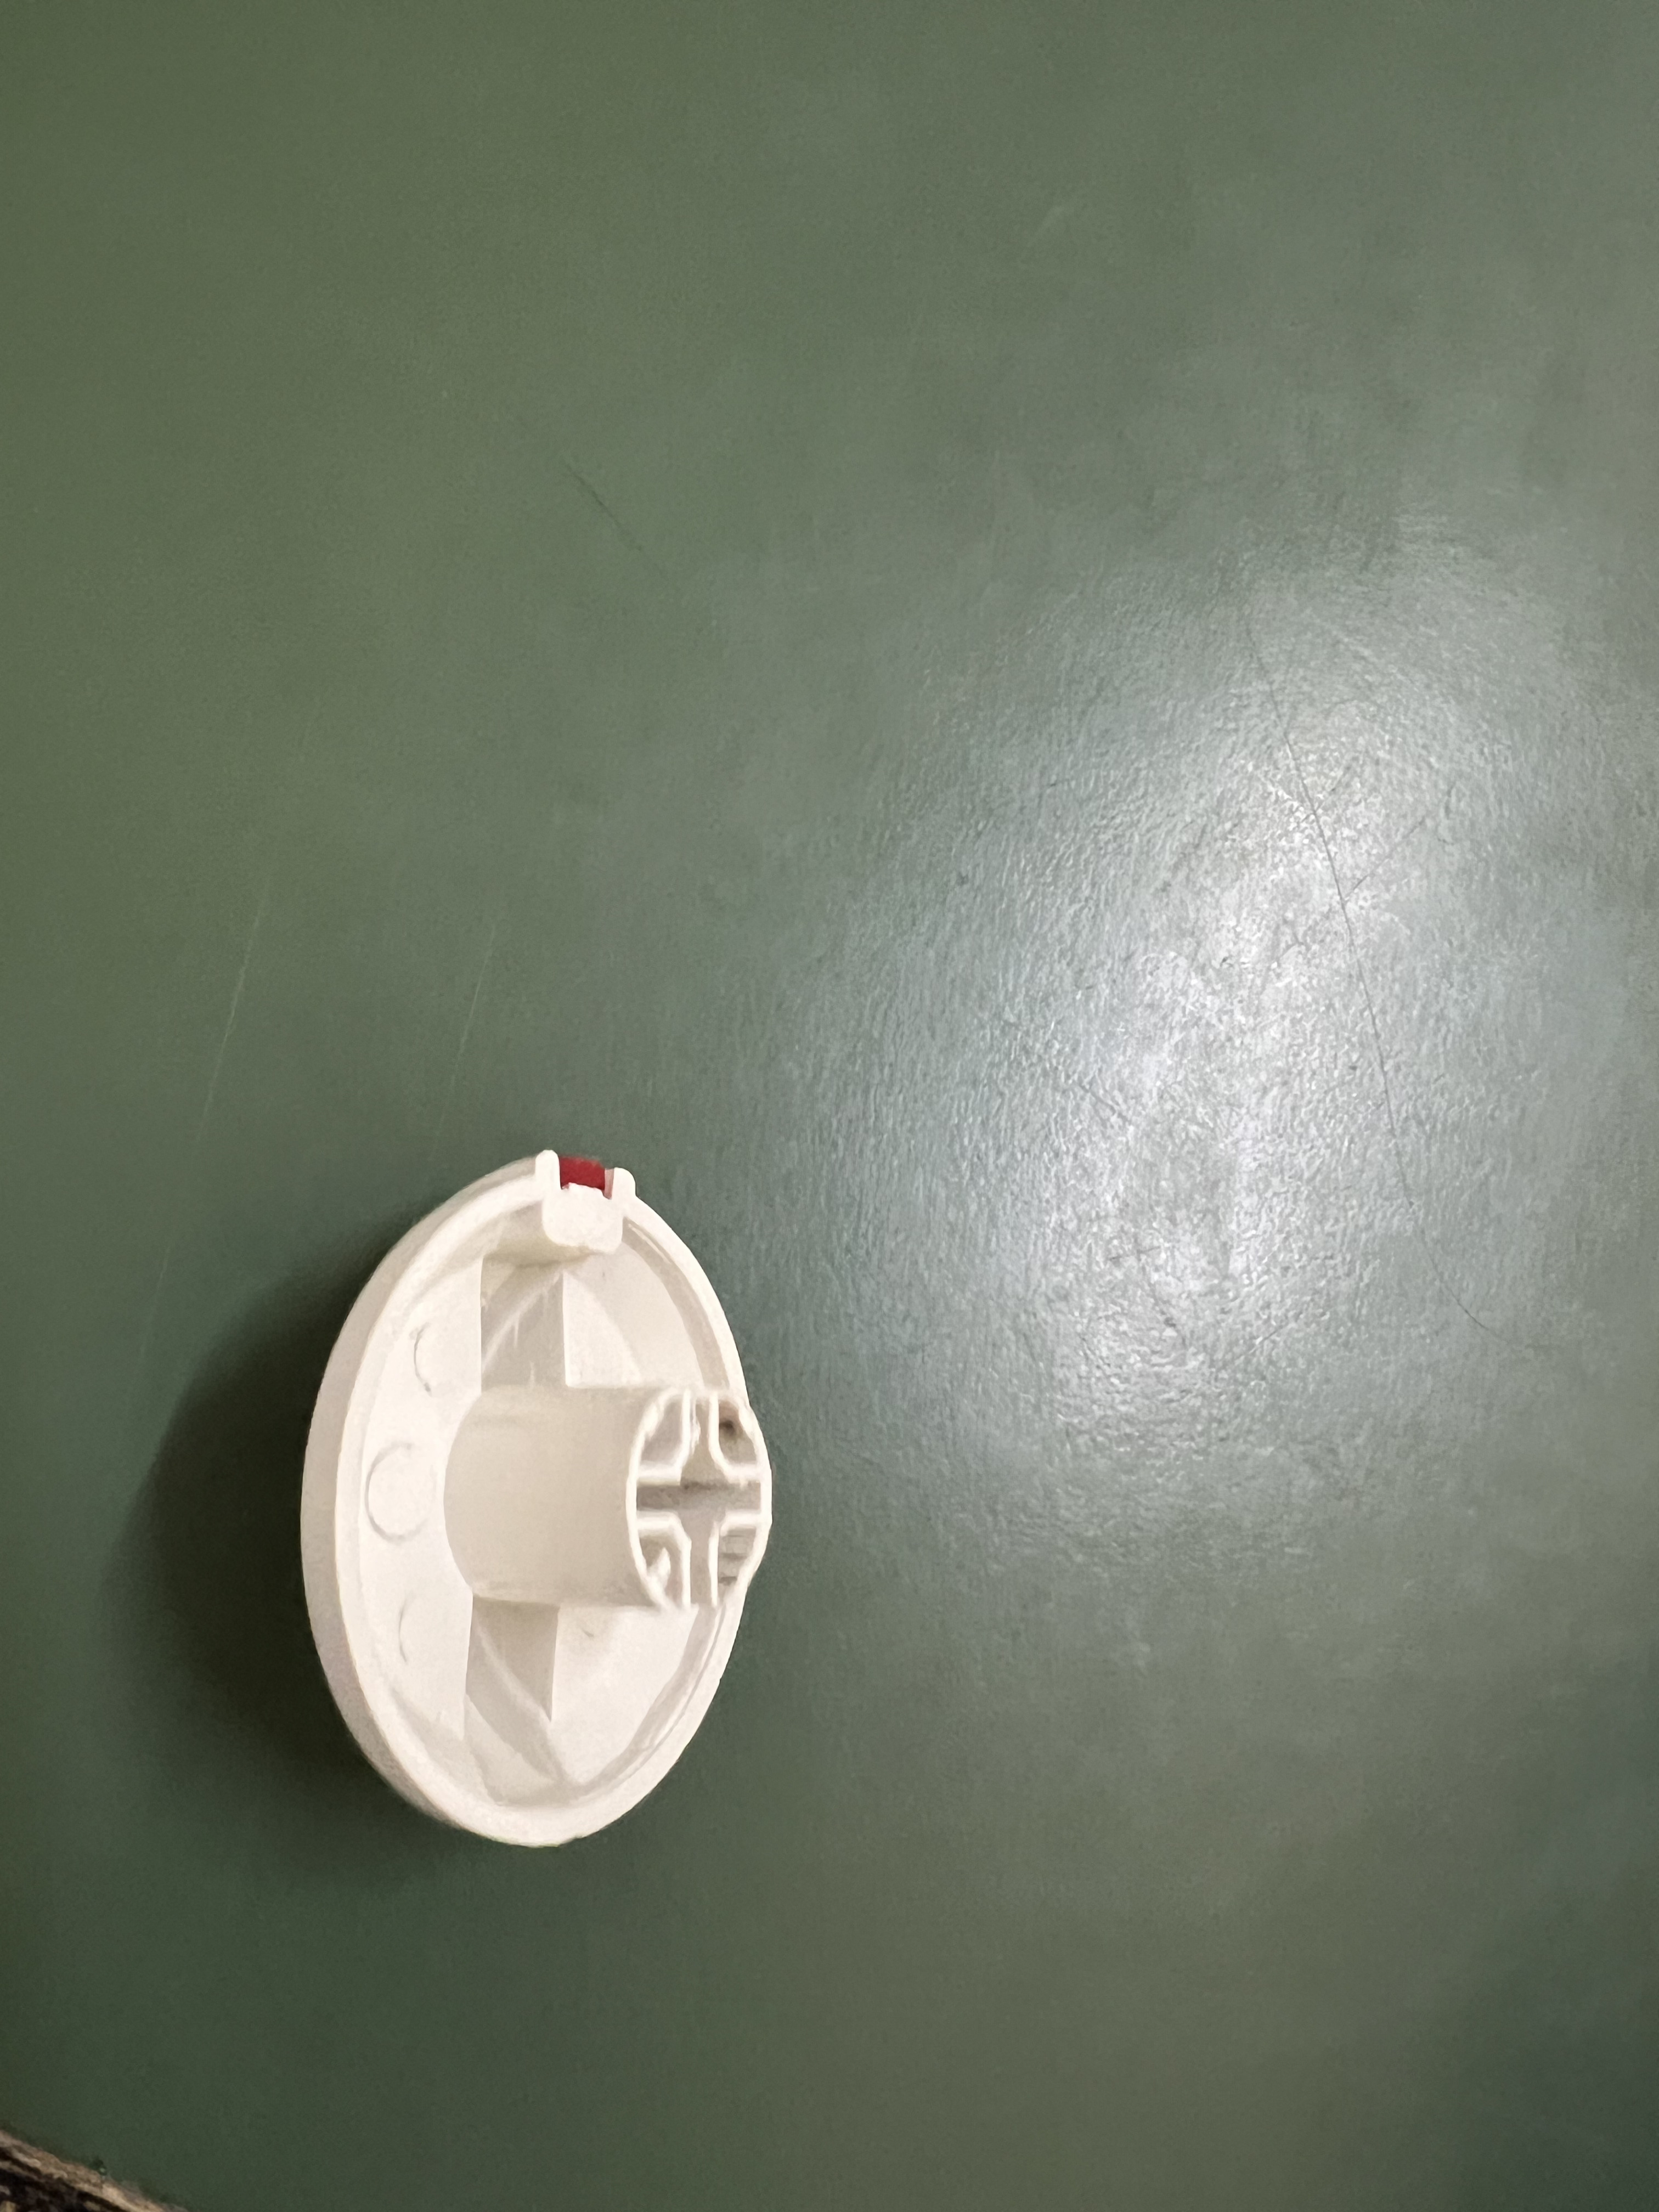regulator: (286, 1132, 782, 1883)
